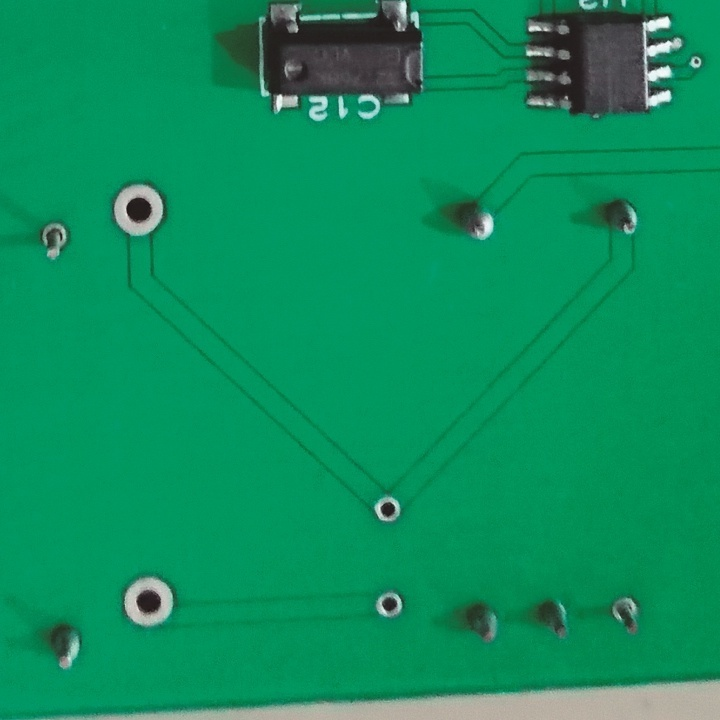F: (110, 178, 170, 244), (120, 570, 182, 632), (35, 214, 71, 264), (606, 589, 643, 634), (371, 587, 407, 623), (373, 492, 405, 528)
